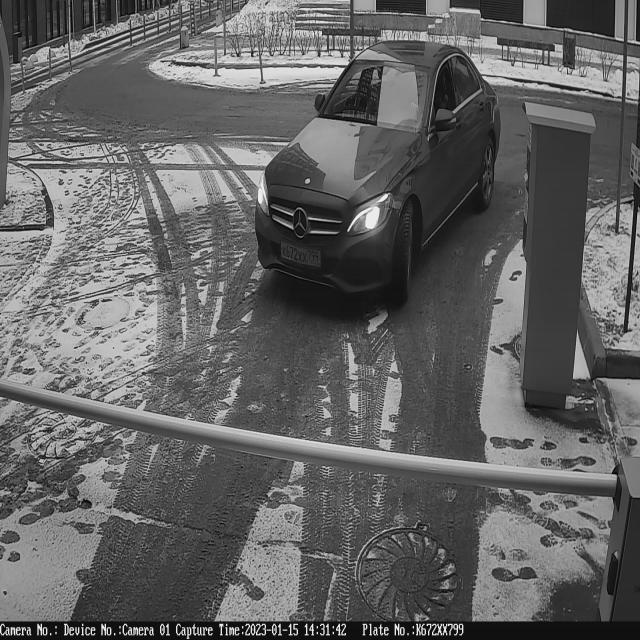car-plate-numbers: (276, 235, 325, 280)
